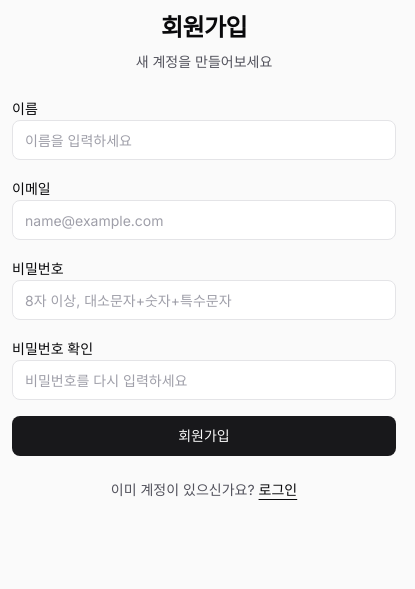
Test: Register › 빈 폼 제출 시 유효성 검증 에러가 표시된다
Click the button "회원가입".
click(204, 436)  # box 12,416 -> 396,456
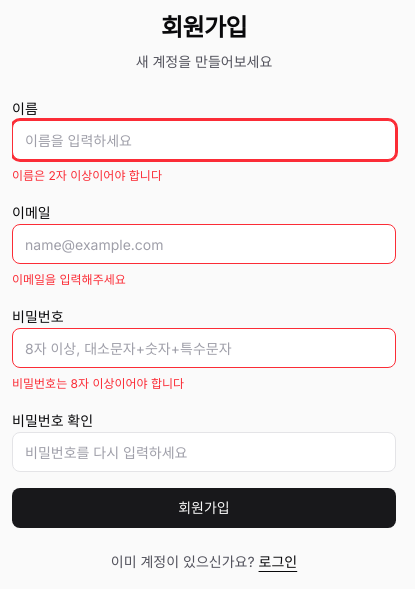
Expected: the text "이름은 2자 이상이어야 합니다" is shown, 12,168 -> 162,183
